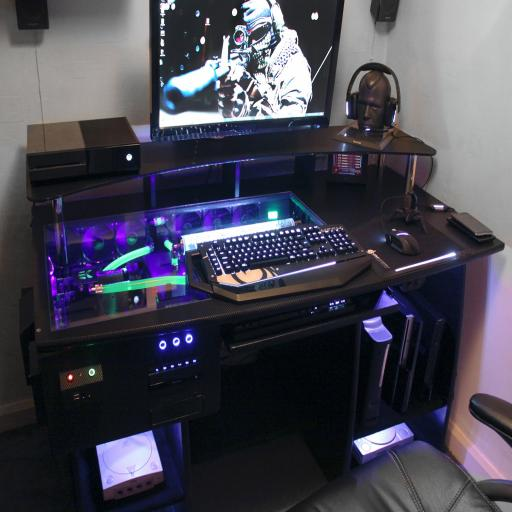chair: (286, 391, 512, 512)
desk: (24, 124, 505, 512)
wall: (0, 0, 512, 511)
